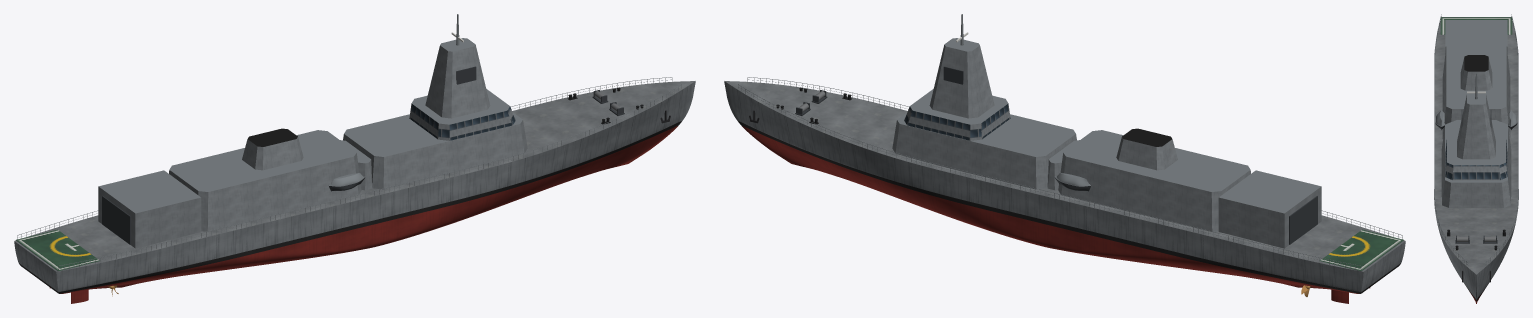
The model's file is destroyer.glb.
3 renders of one model, left to right at view 1: azimuth 30°, elevation 25°; view 2: azimuth 150°, elevation 25°; view 3: azimuth 270°, elevation 25°, orthographic. The views are drawn at different scales.
Visible parts, largest first — view 1: Hull, Superstructure, Hangar, Integrated mast, Deck railings, Funnel casing, Helicopter deck, Foredeck mooring gear; view 2: Hull, Superstructure, Hangar, Integrated mast, Deck railings, Funnel casing, Helicopter deck, Foredeck mooring gear; view 3: Superstructure, Hull, Integrated mast, Hangar, Funnel casing, Deck railings, Helicopter deck, Foredeck mooring gear, Boats in recesses.
Boxes of the visible parts, left/top/right/bottom form: Hull: left=14, top=81, right=695, bottom=293; Superstructure: left=169, top=89, right=527, bottom=231; Hangar: left=98, top=170, right=201, bottom=248; Integrated mast: left=425, top=14, right=490, bottom=118; Deck railings: left=17, top=77, right=681, bottom=270; Funnel casing: left=242, top=128, right=303, bottom=170; Helicopter deck: left=16, top=229, right=99, bottom=272; Foredeck mooring gear: left=567, top=87, right=643, bottom=124; Hull: left=724, top=81, right=1405, bottom=293; Superstructure: left=892, top=89, right=1250, bottom=231; Hangar: left=1218, top=170, right=1321, bottom=248; Integrated mast: left=929, top=14, right=994, bottom=118; Deck railings: left=738, top=77, right=1402, bottom=270; Funnel casing: left=1116, top=128, right=1177, bottom=170; Helicopter deck: left=1320, top=229, right=1403, bottom=272; Foredeck mooring gear: left=776, top=87, right=852, bottom=124; Superstructure: left=1441, top=44, right=1511, bottom=207; Hull: left=1434, top=17, right=1518, bottom=303; Integrated mast: left=1457, top=73, right=1495, bottom=159; Hangar: left=1445, top=20, right=1507, bottom=52; Funnel casing: left=1460, top=55, right=1492, bottom=90; Deck railings: left=1434, top=14, right=1518, bottom=264; Helicopter deck: left=1440, top=17, right=1512, bottom=34; Foredeck mooring gear: left=1447, top=229, right=1505, bottom=250; Boats in recesses: left=1435, top=110, right=1517, bottom=129.
Size of the model in its own units: 136 by 37.48 by 18.05.
15 materials, 15 textured.
